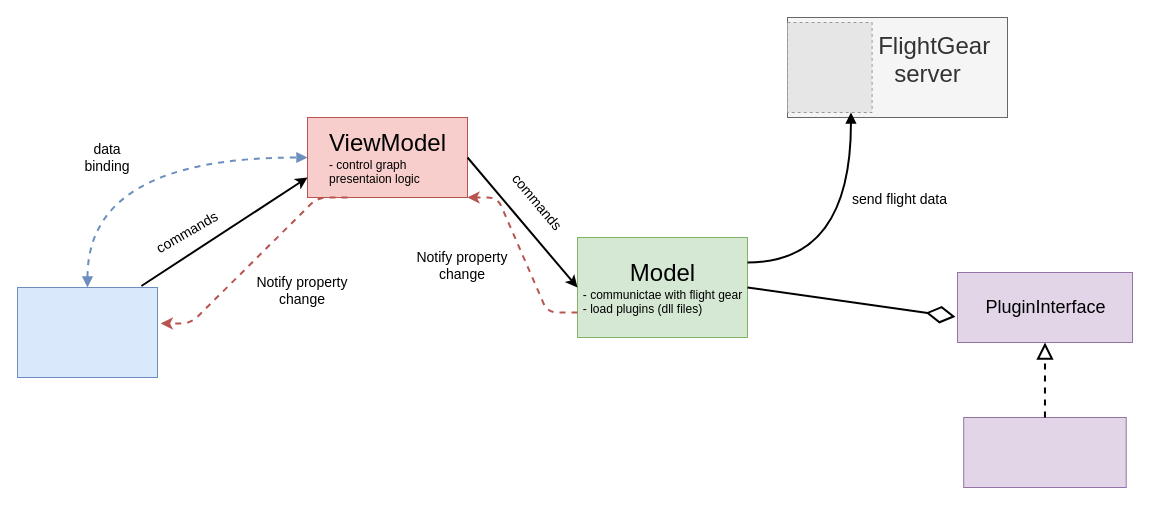
Image size: 1150x505. Some labels were removed from this diagram. Grey dashed boxes stand in for pictures. Each missing label, with the centre of its shape:
External Plugin - detect anomalies: point 1044,452
View - present flight data and anomalies: point 87,332
